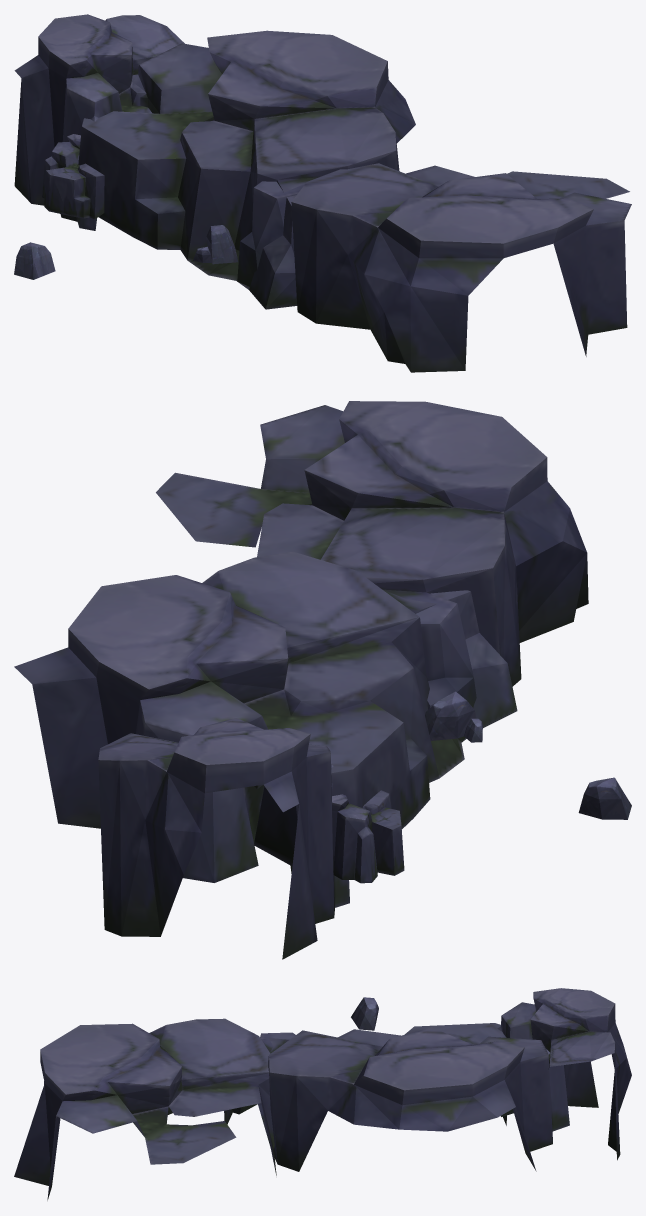
The model's file is Area13_5.fbx.
3 views of the same model, one above another, from view 1: azimuth 30°, elevation 25°; view 2: azimuth 150°, elevation 25°; view 3: azimuth 270°, elevation 25° (orthographic). The views are drawn at different scales.
Parts seen in each view (by area): view 1: Area13_5; view 2: Area13_5; view 3: Area13_5.
Part boxes in pixels (x1=…): Area13_5: x1=14, y1=14, x2=631, y2=372; Area13_5: x1=14, y1=401, x2=631, y2=959; Area13_5: x1=14, y1=988, x2=631, y2=1200.
Bounding box in the file's own units: 4483 × 1306 × 5849.
